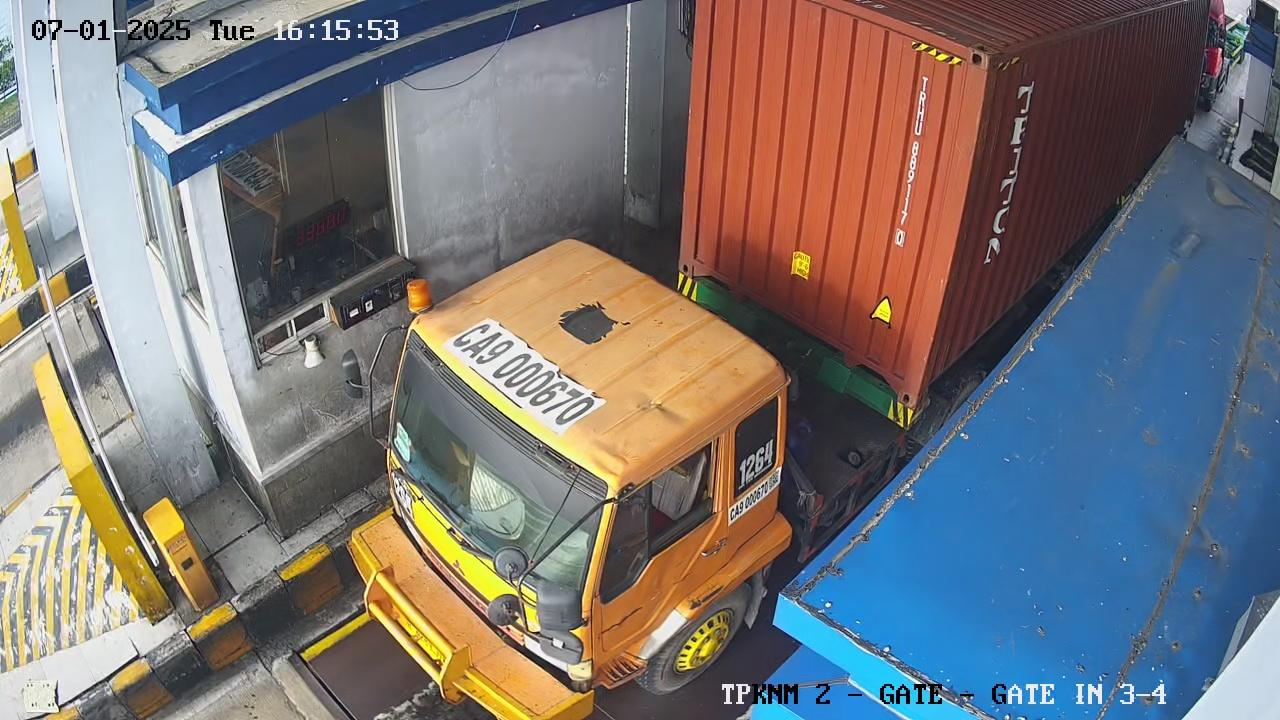Container_ID_Vertikal: (887, 76, 930, 247)
truck_id: (445, 313, 611, 439), (728, 468, 782, 526)
